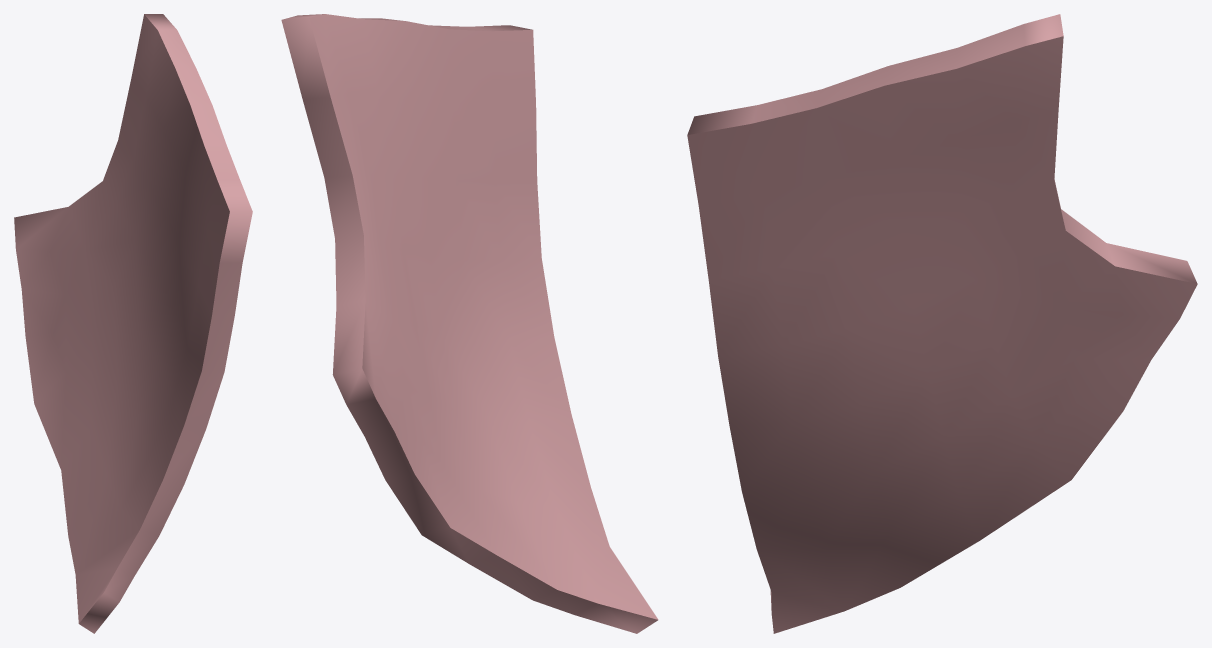
3 renders of one model, left to right at view 1: azimuth 30°, elevation 25°; view 2: azimuth 150°, elevation 25°; view 3: azimuth 270°, elevation 25°, orthographic. The views are drawn at different scales.
Parts seen in each view (by area): view 1: ZA_bd2ccb51ede9fca7; view 2: ZA_bd2ccb51ede9fca7; view 3: ZA_bd2ccb51ede9fca7.
Part boxes in pixels (bbox=[...]): ZA_bd2ccb51ede9fca7: bbox=[14, 14, 252, 633]; ZA_bd2ccb51ede9fca7: bbox=[281, 14, 658, 633]; ZA_bd2ccb51ede9fca7: bbox=[687, 14, 1197, 633].
Bounding box in the file's own units: 0.0267 × 0.0692 × 0.0442.
